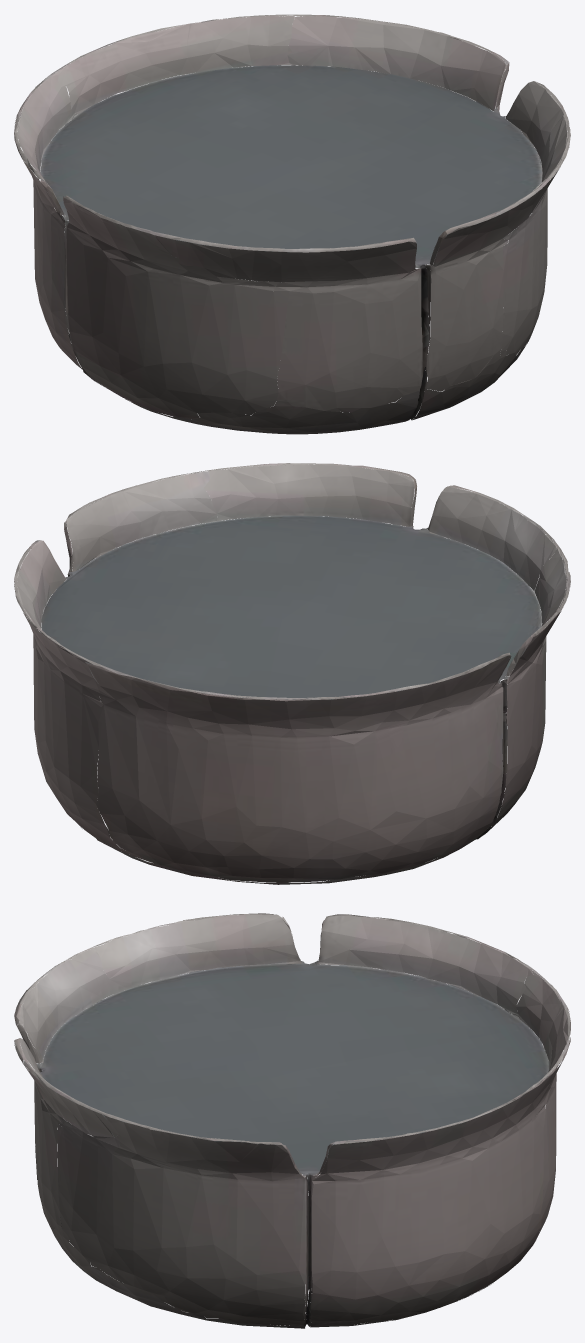
The model's file is coffee-table-taupe.glb.
3 renders of one model, top to bottom at view 1: azimuth 30°, elevation 25°; view 2: azimuth 150°, elevation 25°; view 3: azimuth 270°, elevation 25°, orthographic.
Visible parts, largest first — view 1: geometry_0; view 2: geometry_0; view 3: geometry_0.
Part boxes in pixels (x1,y1,x2,y2): geometry_0: (14, 14, 570, 434); geometry_0: (14, 463, 570, 884); geometry_0: (14, 913, 570, 1328).
Size of the model in its own units: 0.9781 by 0.42 by 0.9966.
Materials: 1 (1 with a texture image).
